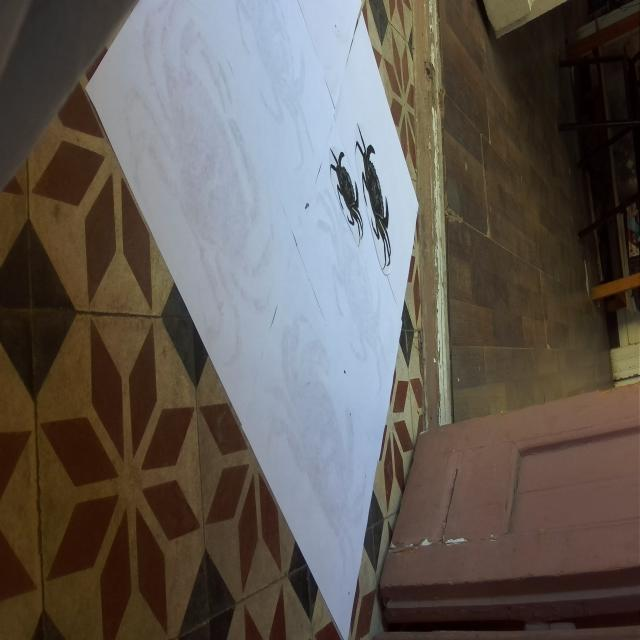European_Green_Crab: (348, 115, 401, 273), (322, 140, 374, 242)
